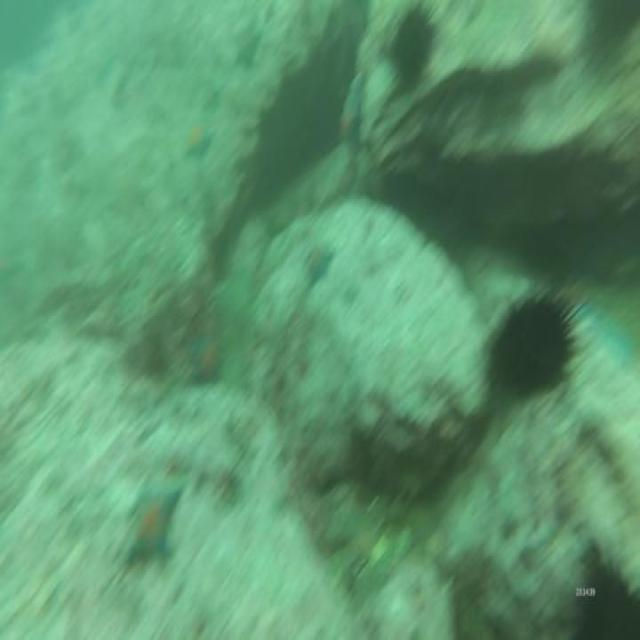echinus: (484, 283, 582, 401), (559, 540, 640, 640), (388, 5, 439, 87)
starfish: (124, 479, 183, 569), (182, 329, 230, 390), (337, 79, 364, 161), (298, 237, 338, 286), (183, 120, 213, 166), (234, 32, 260, 70)
